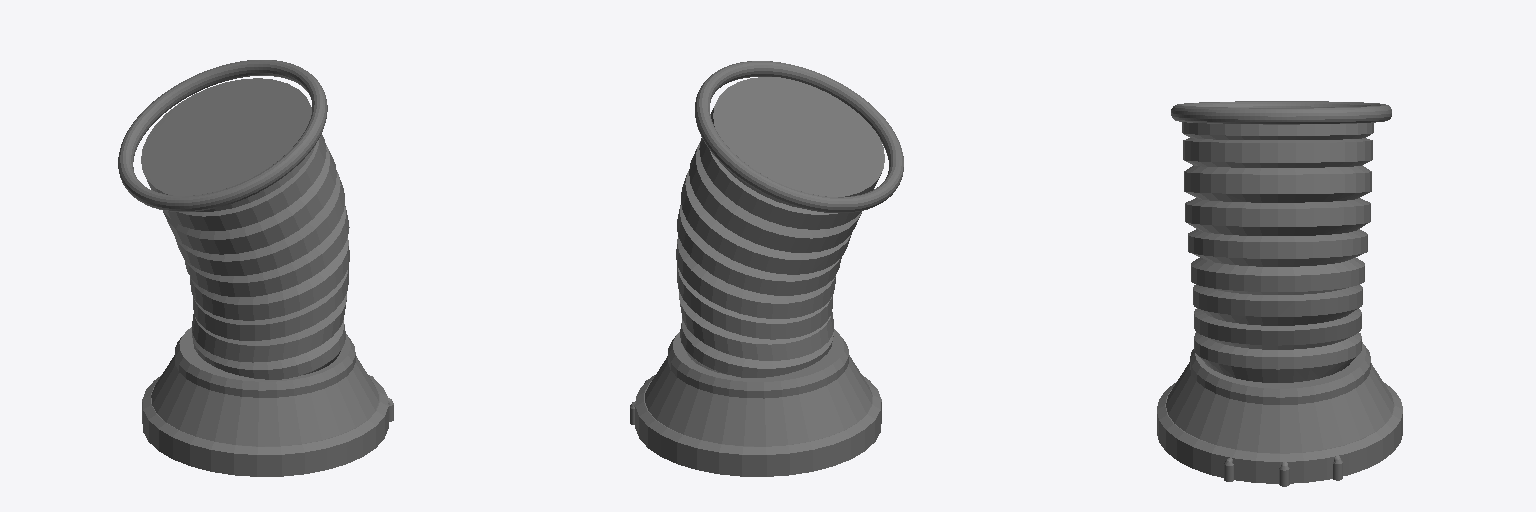
Rendered from goddart_RB_leg.obj.
The picture shows the model from 3 angles: view 1: azimuth 30°, elevation 25°; view 2: azimuth 150°, elevation 25°; view 3: azimuth 270°, elevation 25°; orthographic projection.
Visible parts, largest first — view 1: C_rculo_007_C_rculo_008, C_rculo_015_C_rculo_016, C_rculo_014_C_rculo_015, C_rculo_004, C_rculo_016_C_rculo_017; view 2: C_rculo_007_C_rculo_008, C_rculo_015_C_rculo_016, C_rculo_014_C_rculo_015, C_rculo_004, C_rculo_016_C_rculo_017; view 3: C_rculo_007_C_rculo_008, C_rculo_015_C_rculo_016, C_rculo_014_C_rculo_015, C_rculo_004, C_rculo_016_C_rculo_017, Cilindro_001_Cilindro_006.
Part boxes in pixels (bbox=[...]): C_rculo_007_C_rculo_008: bbox=[141, 78, 349, 379]; C_rculo_015_C_rculo_016: bbox=[151, 355, 378, 446]; C_rculo_014_C_rculo_015: bbox=[142, 375, 388, 476]; C_rculo_004: bbox=[118, 60, 327, 211]; C_rculo_016_C_rculo_017: bbox=[175, 327, 355, 397]; C_rculo_007_C_rculo_008: bbox=[676, 77, 884, 377]; C_rculo_015_C_rculo_016: bbox=[645, 355, 872, 446]; C_rculo_014_C_rculo_015: bbox=[635, 375, 881, 476]; C_rculo_004: bbox=[695, 61, 903, 212]; C_rculo_016_C_rculo_017: bbox=[668, 329, 848, 398]; C_rculo_007_C_rculo_008: bbox=[1182, 122, 1373, 382]; C_rculo_015_C_rculo_016: bbox=[1166, 362, 1393, 452]; C_rculo_014_C_rculo_015: bbox=[1157, 382, 1402, 483]; C_rculo_004: bbox=[1171, 101, 1391, 124]; C_rculo_016_C_rculo_017: bbox=[1190, 342, 1370, 404]; Cilindro_001_Cilindro_006: bbox=[1224, 456, 1342, 486].
Bounding box in the file's own units: 1.17 × 1.58 × 1.03.